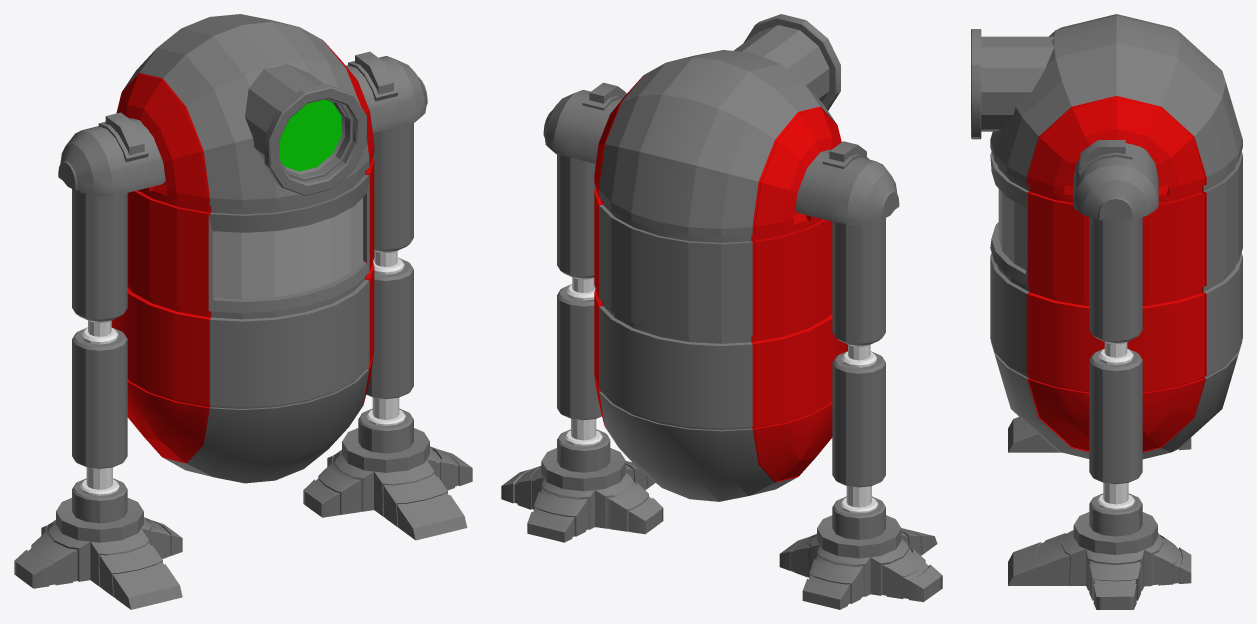
Rendered from CAM_BOT.fbx.
3 views of the same model, side by side, from view 1: azimuth 30°, elevation 25°; view 2: azimuth 150°, elevation 25°; view 3: azimuth 270°, elevation 25° (orthographic). The views are drawn at different scales.
Visible parts, largest first — view 1: CAM_BOT_LP1; view 2: CAM_BOT_LP1; view 3: CAM_BOT_LP1.
Boxes of the visible parts, left/top/right/bottom form: CAM_BOT_LP1: left=14, top=14, right=472, bottom=609; CAM_BOT_LP1: left=501, top=14, right=942, bottom=609; CAM_BOT_LP1: left=971, top=14, right=1242, bottom=609.
Bounding box in the file's own units: 3.85 × 4.21 × 2.15.
